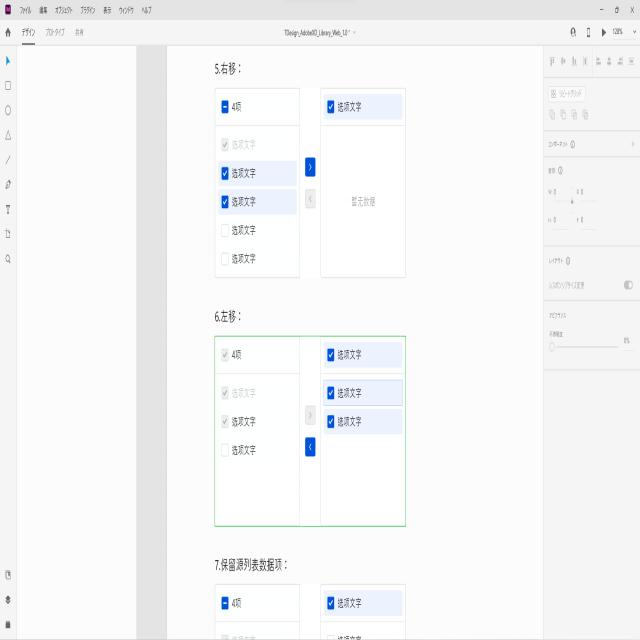checkbox: (221, 134, 230, 152), (220, 385, 229, 401), (326, 348, 335, 364), (326, 385, 335, 401), (326, 415, 336, 429), (220, 194, 229, 208), (221, 166, 229, 181), (327, 99, 335, 114), (327, 596, 335, 611), (220, 415, 229, 428), (221, 348, 228, 362)
